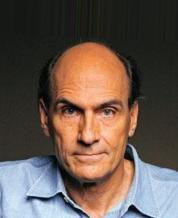face: (57, 99, 117, 166)
